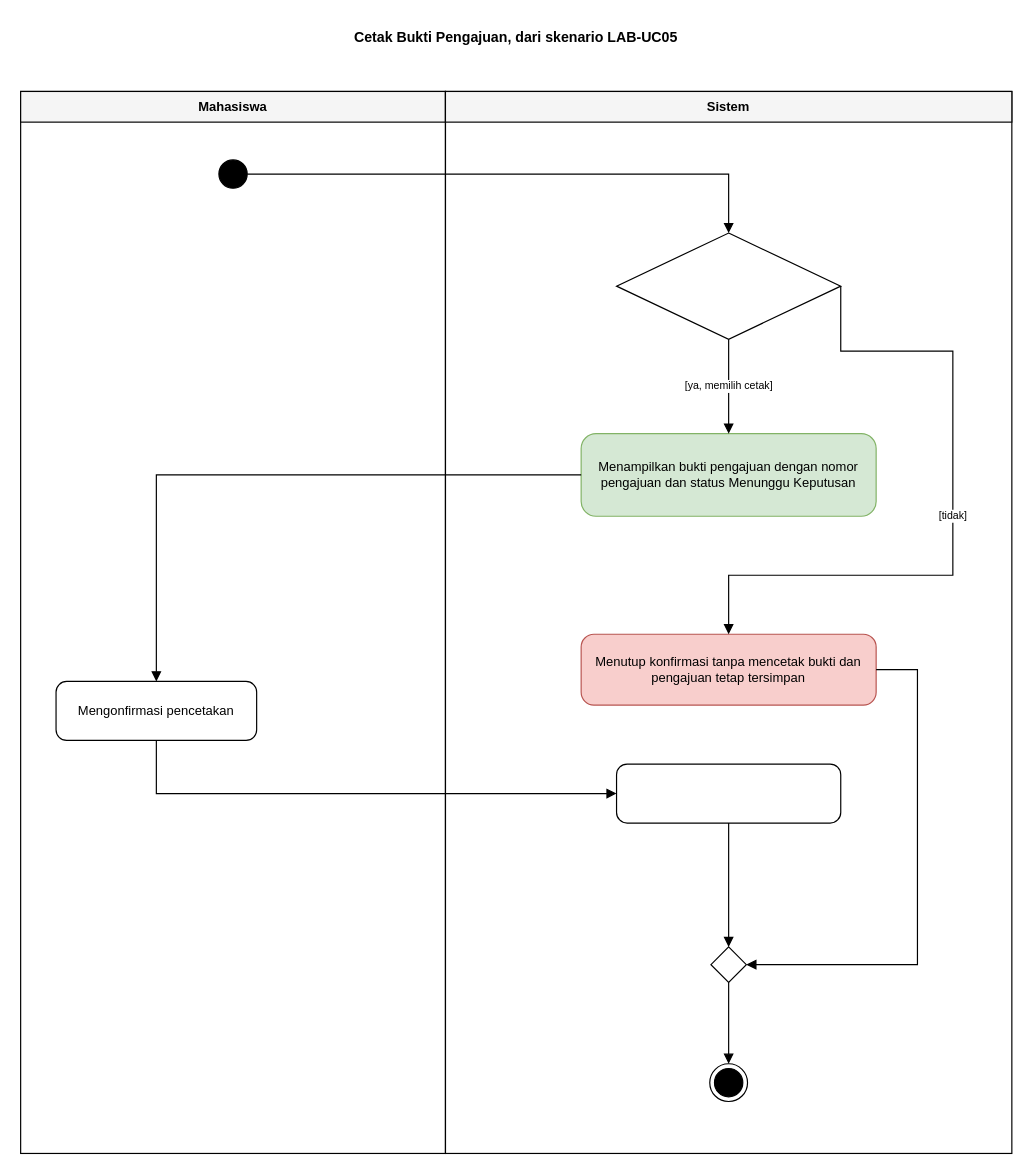
Some shapes in this 1033 by 1174 pixel diagram are drawn without their labels. Each missing label, with the box of its shape:
Mahasiswa memilih cetak bukti?: (615, 232, 841, 339)
Mencetak bukti pengajuan: (615, 763, 841, 823)
